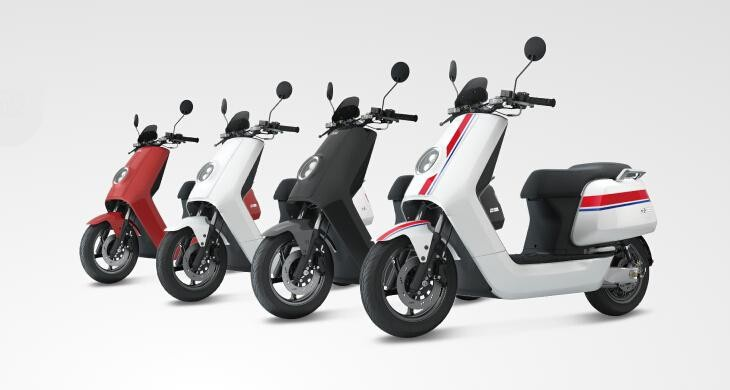non-vehicle: (360, 77, 655, 338), (249, 102, 383, 314), (154, 113, 276, 304), (74, 113, 180, 290)
